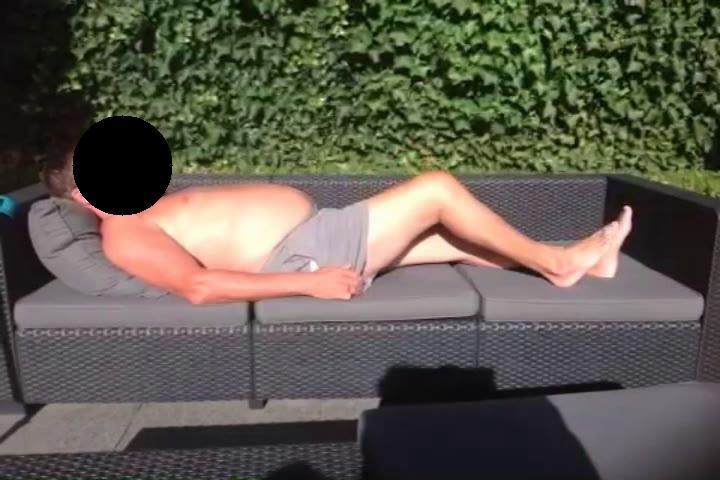lower_body: (288, 170, 636, 294)
